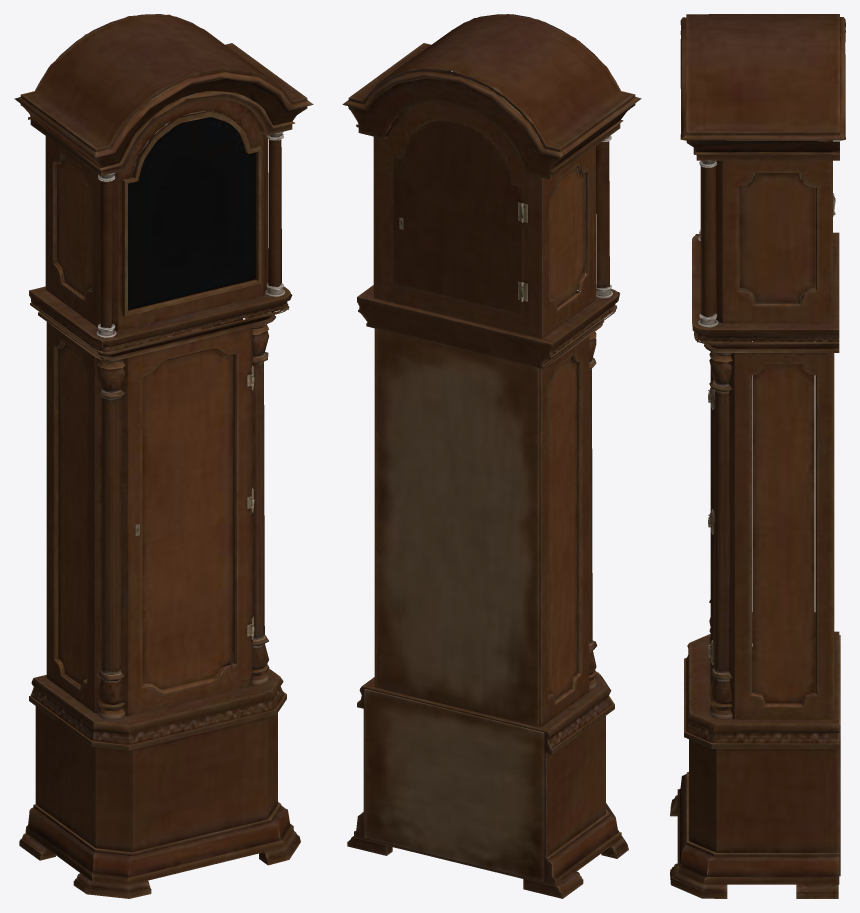
Rendered from ph_vintage_grandfather_clock_01.glb.
The picture shows the model from 3 angles, left to right: view 1: azimuth 30°, elevation 25°; view 2: azimuth 150°, elevation 25°; view 3: azimuth 270°, elevation 25°; orthographic projection. The views are drawn at different scales.
Visible parts, largest first — view 1: vintage_grandfather_clock_01_body; view 2: vintage_grandfather_clock_01_body; view 3: vintage_grandfather_clock_01_body.
Boxes of the visible parts, left/top/right/bottom form: vintage_grandfather_clock_01_body: left=14, top=14, right=313, bottom=898; vintage_grandfather_clock_01_body: left=342, top=14, right=641, bottom=898; vintage_grandfather_clock_01_body: left=670, top=14, right=845, bottom=898.
Bounding box in the file's own units: 0.6256 × 2.19 × 0.4266.
Materials: 2 (2 with a texture image).
